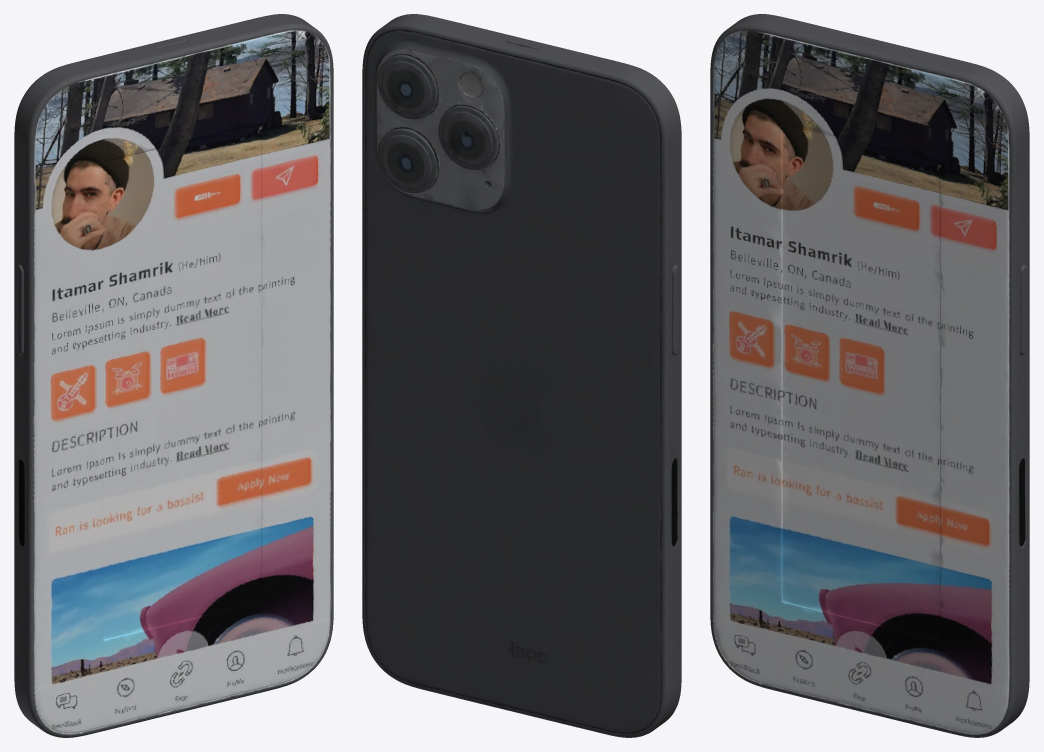
File: violet-bloom.glb
3 views of the same model, side by side, from view 1: azimuth 30°, elevation 25°; view 2: azimuth 150°, elevation 25°; view 3: azimuth 330°, elevation 25° (orthographic).
Bounding box in the file's own units: 0.9338 × 1.9 × 0.1283.
1 material, 1 textured.
